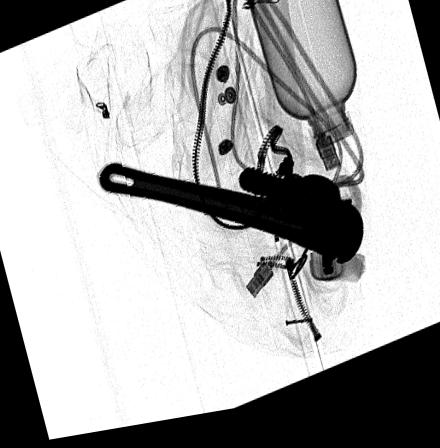Wrench: (95, 164, 362, 276)
